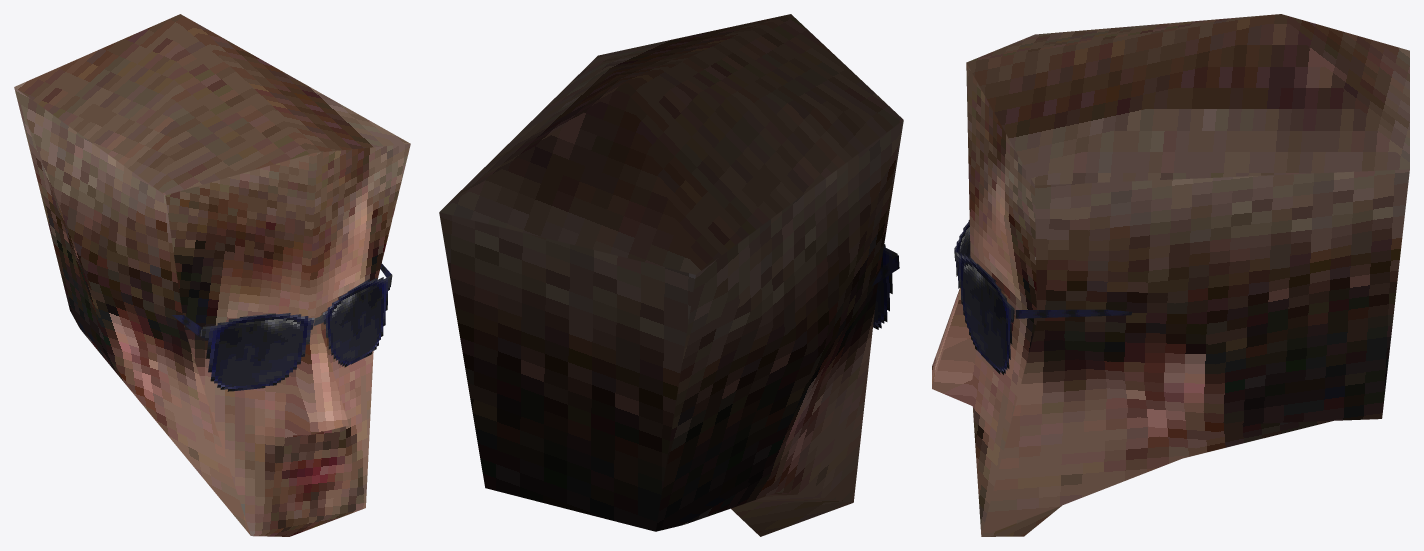
File: CheadmartinZ.obj
The picture shows the model from 3 angles, left to right: view 1: azimuth 30°, elevation 25°; view 2: azimuth 150°, elevation 25°; view 3: azimuth 270°, elevation 25°; orthographic projection. The views are drawn at different scales.
Size of the model in its own units: 159 by 269 by 223.
6 materials, 6 textured.
